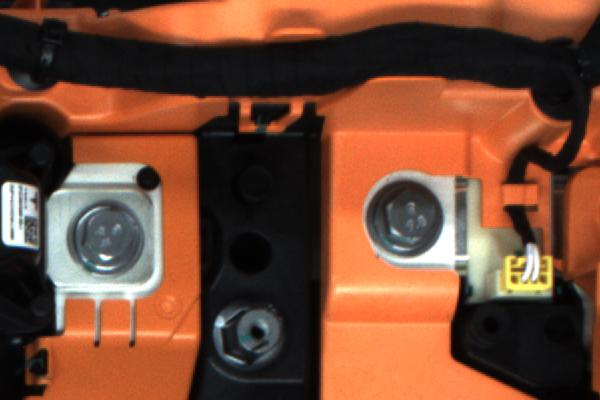nut_b: (362, 172, 454, 261), (61, 197, 150, 284)
